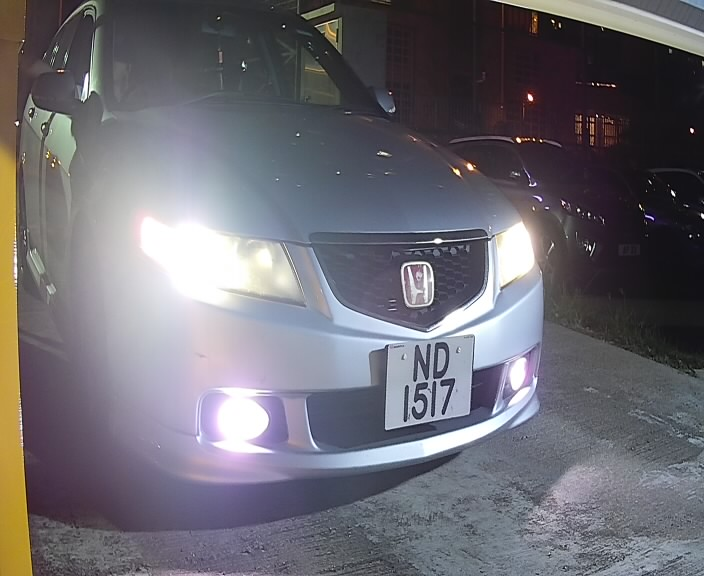Car: (14, 2, 557, 504)
License Plate: (374, 324, 486, 441)
